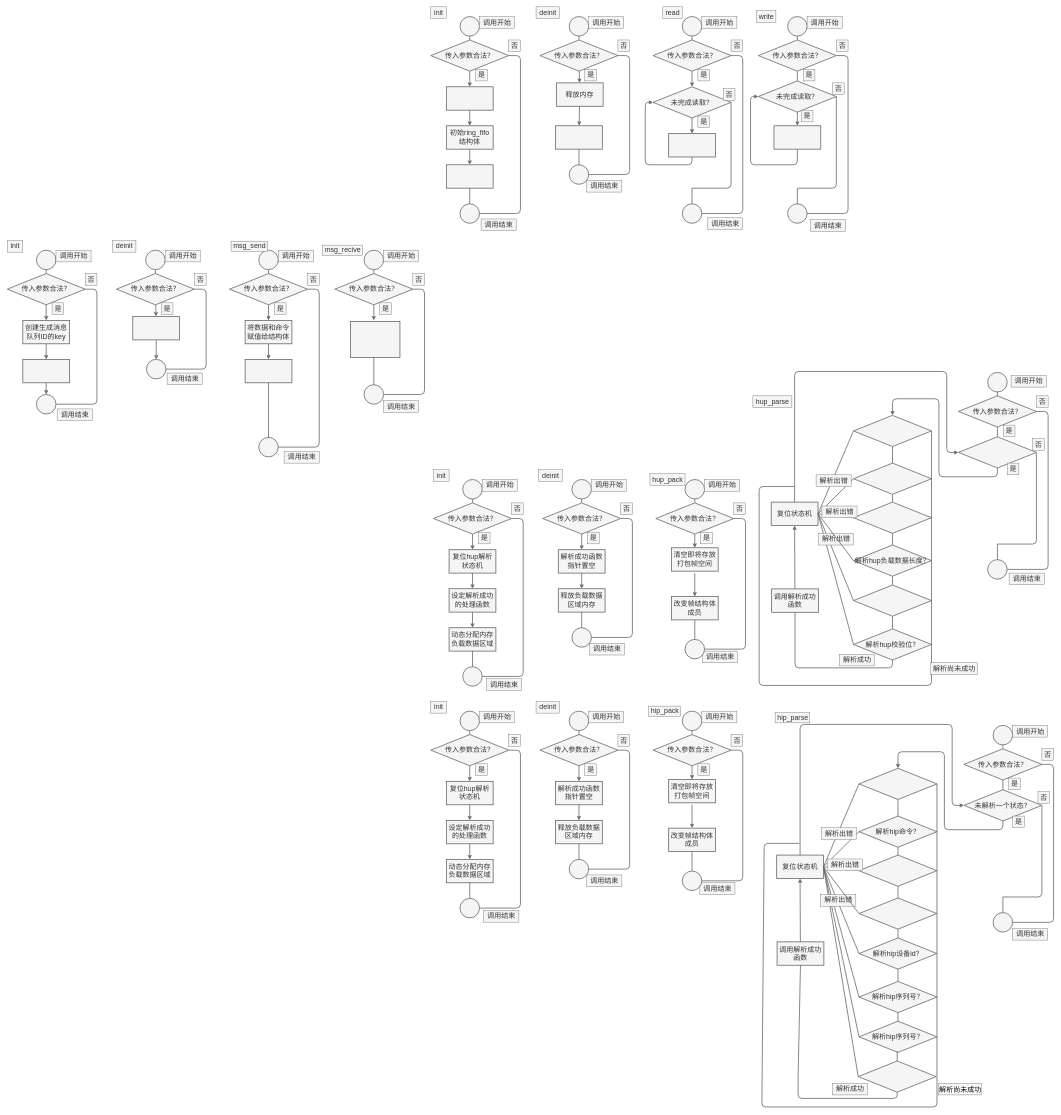
Image size: 1061x1115. Some labels were removed from this diagram. Each missing label, with the centre of its shape:
"令指针为空" belongs at [579,137].
"删除消息队列ID" belongs at [156,328].
"单字节的写入" belongs at [797,137].
"单字节的读出" belongs at [692,145].
"发送结构体到消息队列" belongs at [268,371].
"未解析一个位置？" belongs at [997,452].
"消费消息队列中数据，放入传出参数结构体中" belongs at [375,339].
"清空缓存区" belongs at [469,176].
"环形缓存。 动态分配内存" belongs at [469,98].
"获得消息队列ID" belongs at [46,371].
"解析hip头部？" belongs at [897,784].
"解析hip设备类型？" belongs at [897,913].
"解析hip负载数据？" belongs at [897,1076].
"解析hip长度？" belongs at [897,870].
"解析hup低位头部？" belongs at [892,479].
"解析hup命令？" belongs at [892,518].
"解析hup负载数据？" belongs at [892,600].
"解析hup高位头部？" belongs at [892,431].
